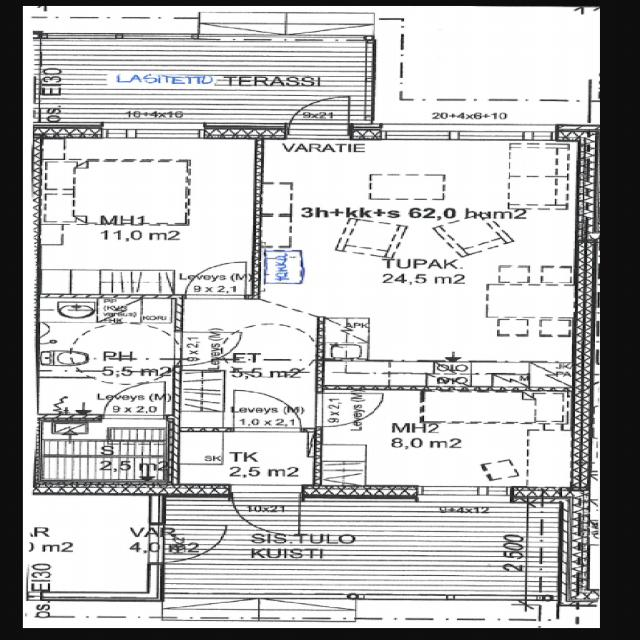door: (232, 484, 302, 536), (286, 87, 350, 139), (146, 523, 229, 561), (101, 380, 163, 422), (233, 391, 298, 431), (185, 260, 246, 298), (173, 331, 239, 364), (314, 393, 382, 425)
